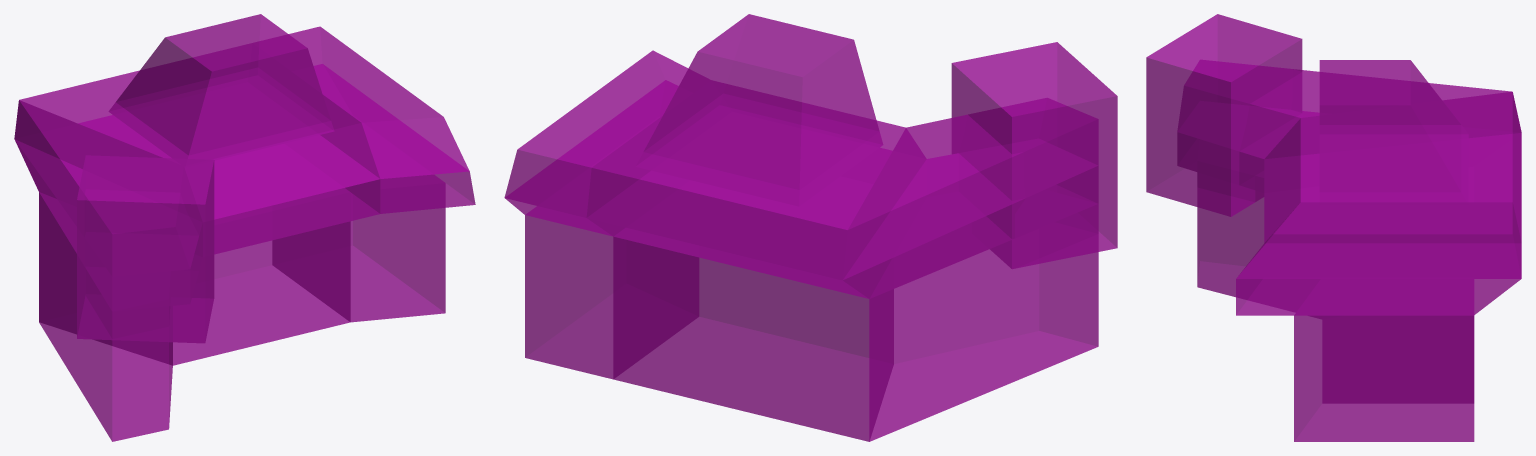
The model's file is SM_Prop_Cockpit_L_01_Collision.fbx.
3 views of the same model, side by side, from view 1: azimuth 30°, elevation 25°; view 2: azimuth 150°, elevation 25°; view 3: azimuth 270°, elevation 25° (orthographic). The views are drawn at different scales.
Parts seen in each view (by area): view 1: SM_Prop_Cockpit_L_01_Collision; view 2: SM_Prop_Cockpit_L_01_Collision; view 3: SM_Prop_Cockpit_L_01_Collision.
Part boxes in pixels (x1,y1,x2,y2): SM_Prop_Cockpit_L_01_Collision: (14,14,475,441); SM_Prop_Cockpit_L_01_Collision: (504,14,1117,441); SM_Prop_Cockpit_L_01_Collision: (1146,14,1521,441).
Size of the model in its own units: 268 by 179 by 220.
